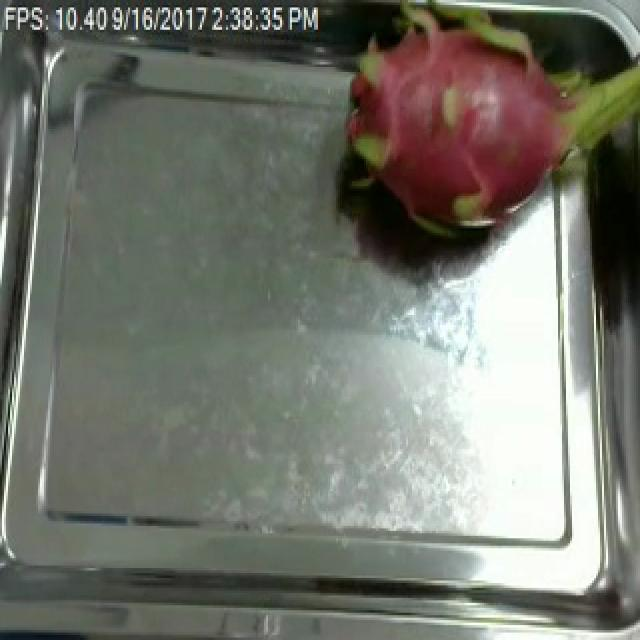fruit: (314, 0, 640, 285)
